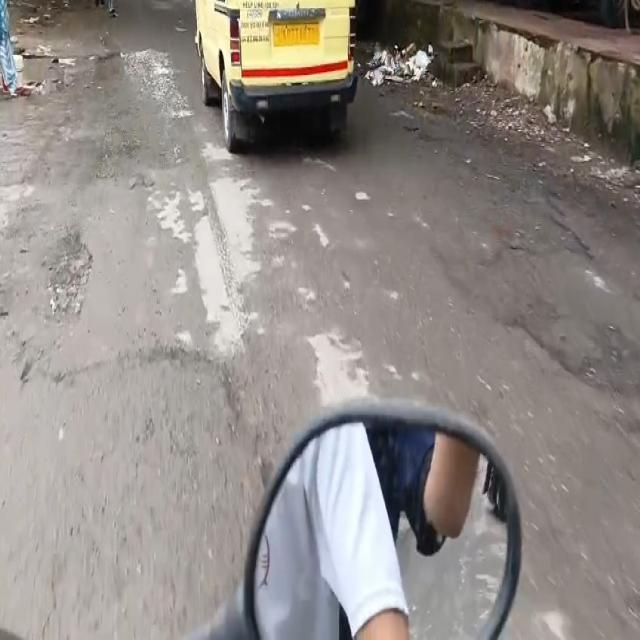road-pothole: (439, 246, 639, 397), (29, 48, 190, 194), (22, 224, 91, 330)
